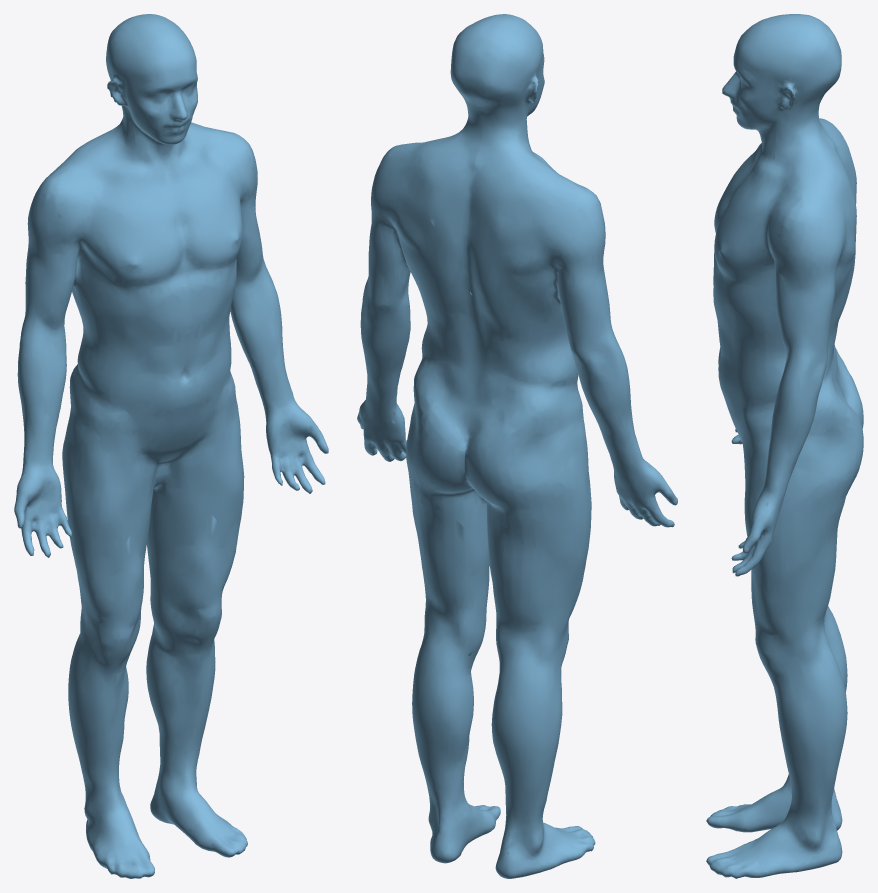
File: astronaut.glb
The picture shows the model from 3 angles, left to right: view 1: azimuth 30°, elevation 25°; view 2: azimuth 150°, elevation 25°; view 3: azimuth 270°, elevation 25°; orthographic projection.
Visible parts, largest first — view 1: skin; view 2: skin; view 3: skin.
Boxes of the visible parts, x1=… form: skin: x1=14, y1=14, x2=328, y2=878; skin: x1=357, y1=14, x2=677, y2=878; skin: x1=706, y1=14, x2=863, y2=878.
Size of the model in its own units: 0.705 by 1.78 by 0.3056.
